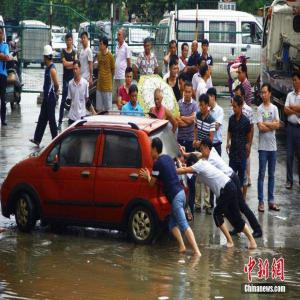none: (151, 137, 165, 160), (199, 94, 210, 115), (129, 84, 139, 106), (208, 87, 218, 109), (201, 137, 212, 157), (188, 153, 199, 173), (262, 84, 273, 103), (233, 97, 243, 116), (155, 89, 164, 110), (170, 60, 179, 80), (179, 73, 189, 91), (201, 62, 211, 80), (238, 63, 247, 83), (73, 60, 82, 78), (125, 68, 134, 86), (99, 38, 109, 54), (235, 86, 245, 102), (81, 30, 89, 48), (170, 39, 178, 57), (186, 83, 194, 101), (293, 72, 300, 92), (117, 28, 125, 45), (182, 44, 190, 61), (66, 33, 74, 49), (144, 38, 152, 54), (202, 40, 210, 54), (192, 41, 199, 55)
white: (43, 45, 54, 67)
